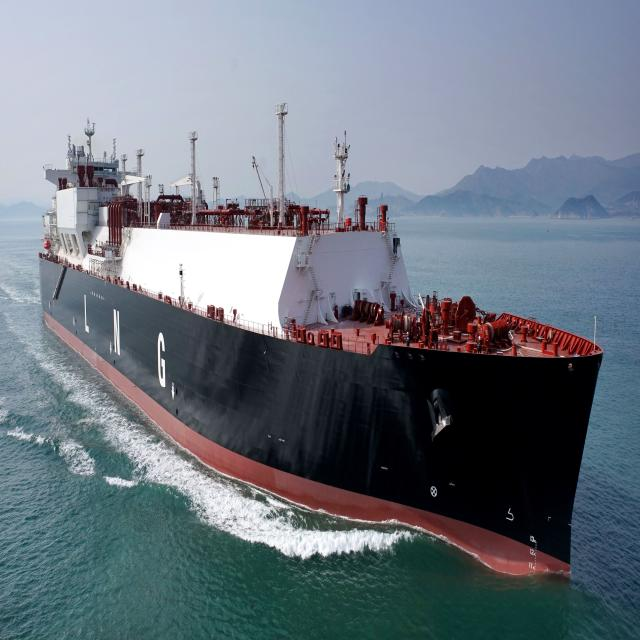boat: (35, 111, 607, 598)
